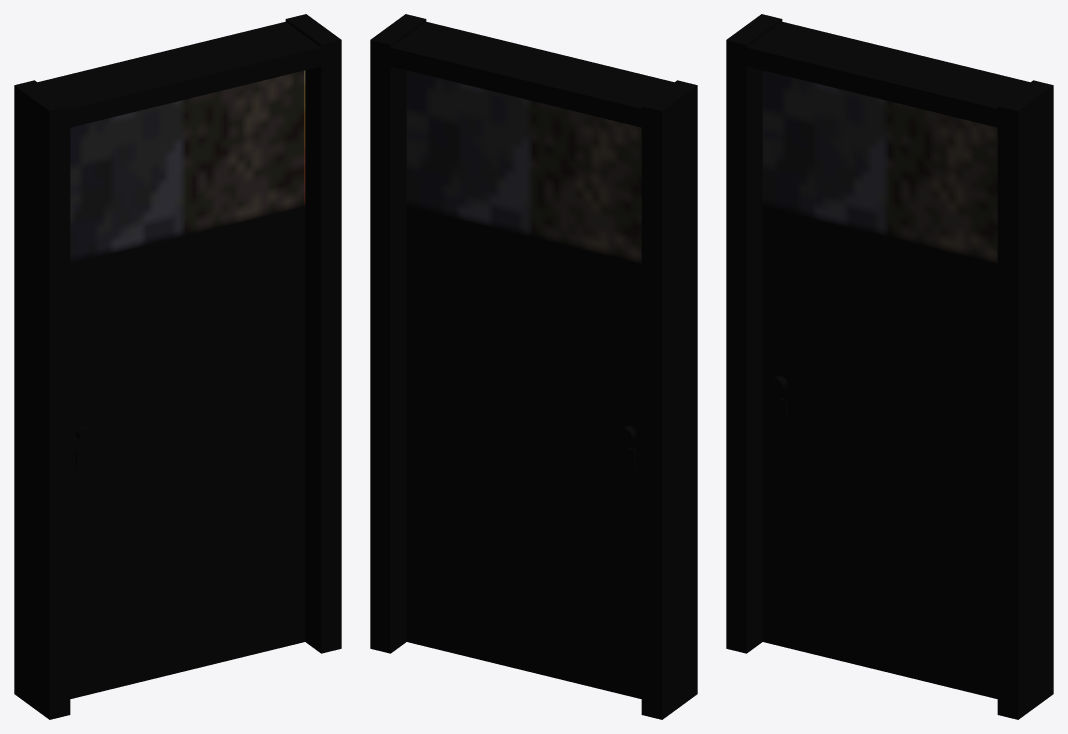
File: SM_door_panel_locked.fbx
3 views of the same model, side by side, from view 1: azimuth 30°, elevation 25°; view 2: azimuth 150°, elevation 25°; view 3: azimuth 330°, elevation 25° (orthographic).
Visible parts, largest first — view 1: door_panel_locked_leaf, door_panel_locked_casing_r, door_panel_locked, door_panel_locked_casing_top; view 2: door_panel_locked_leaf, door_panel_locked_casing_r, door_panel_locked, door_panel_locked_casing_top; view 3: door_panel_locked_leaf, door_panel_locked, door_panel_locked_casing_r, door_panel_locked_casing_top.
Part boxes in pixels (box(x1,y1,x2,y2)): door_panel_locked_leaf: box(70, 70, 305, 698); door_panel_locked_casing_r: box(14, 80, 70, 719); door_panel_locked: box(285, 14, 341, 653); door_panel_locked_casing_top: box(38, 21, 326, 128); door_panel_locked_leaf: box(406, 70, 641, 698); door_panel_locked_casing_r: box(641, 80, 697, 719); door_panel_locked: box(370, 14, 426, 653); door_panel_locked_casing_top: box(385, 21, 673, 128); door_panel_locked_leaf: box(762, 70, 997, 698); door_panel_locked: box(997, 80, 1053, 719); door_panel_locked_casing_r: box(726, 14, 782, 653); door_panel_locked_casing_top: box(741, 21, 1029, 128).
Bounding box in the file's own units: 1.14 × 2.27 × 0.24.
